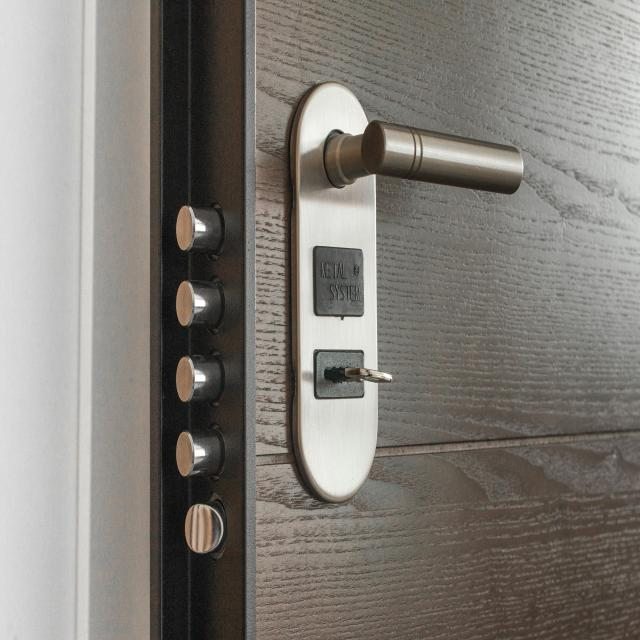door-handle: (324, 120, 522, 193)
